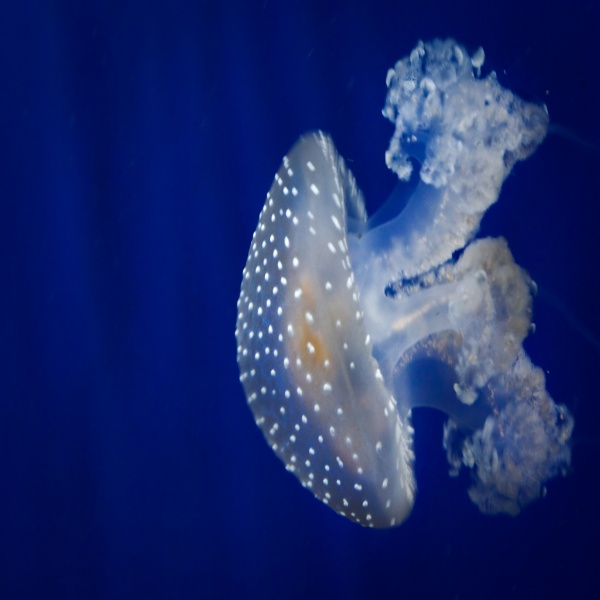Jellyfish: (232, 35, 572, 525)
